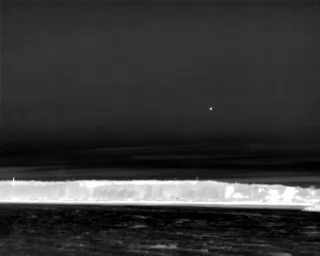HELICOPTER: (206, 105, 215, 114)
